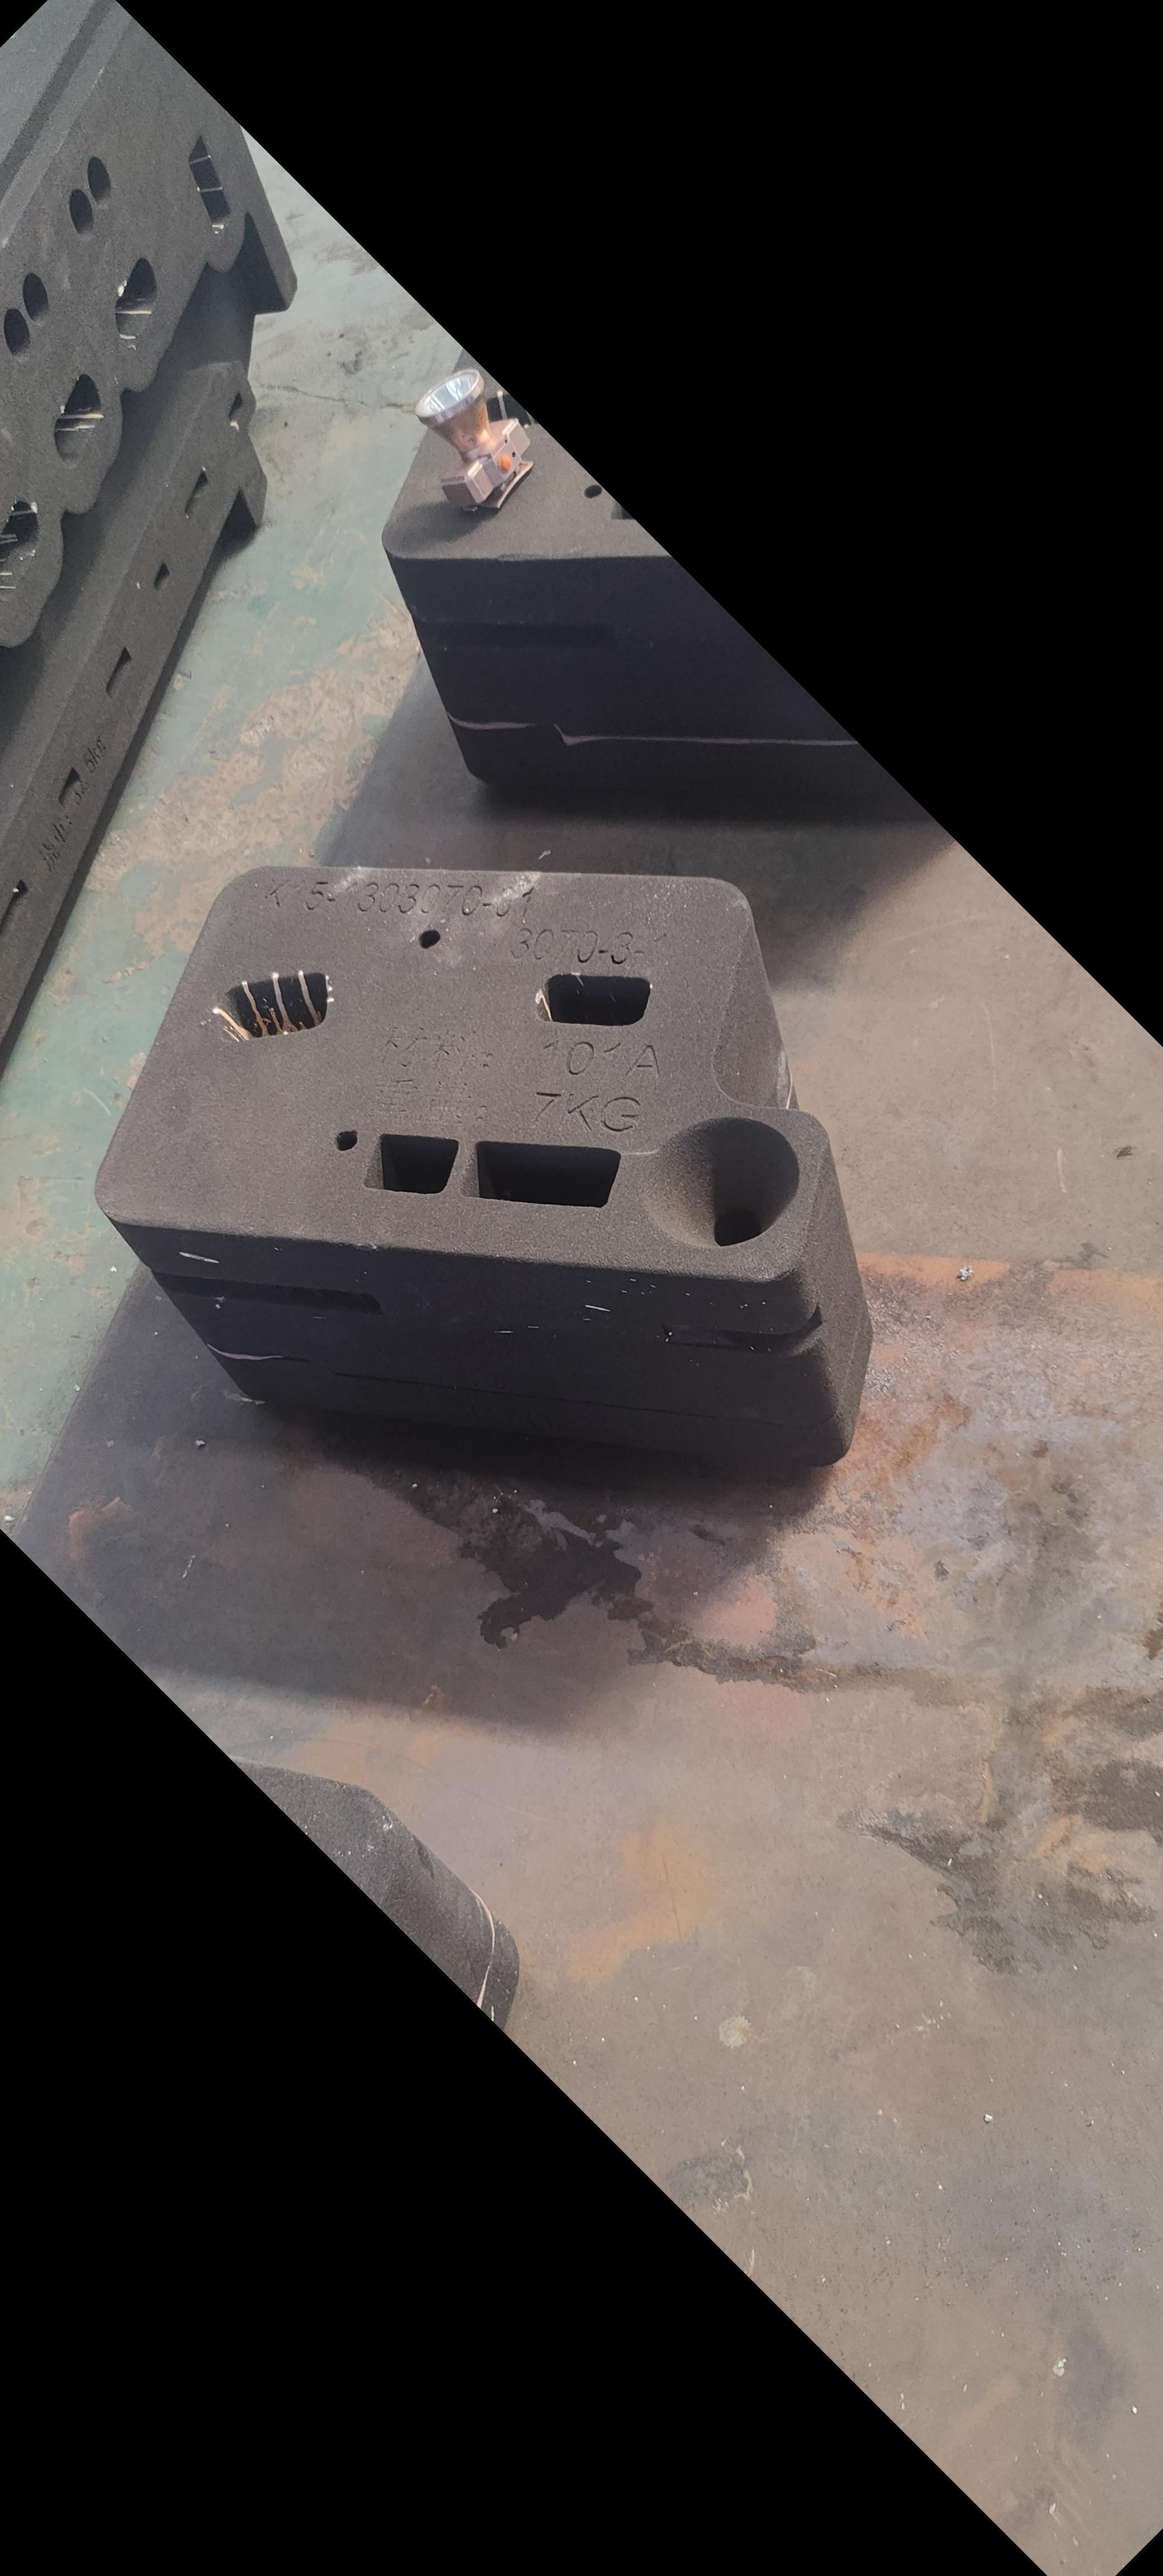pouring hole: (641, 1119, 798, 1247)
